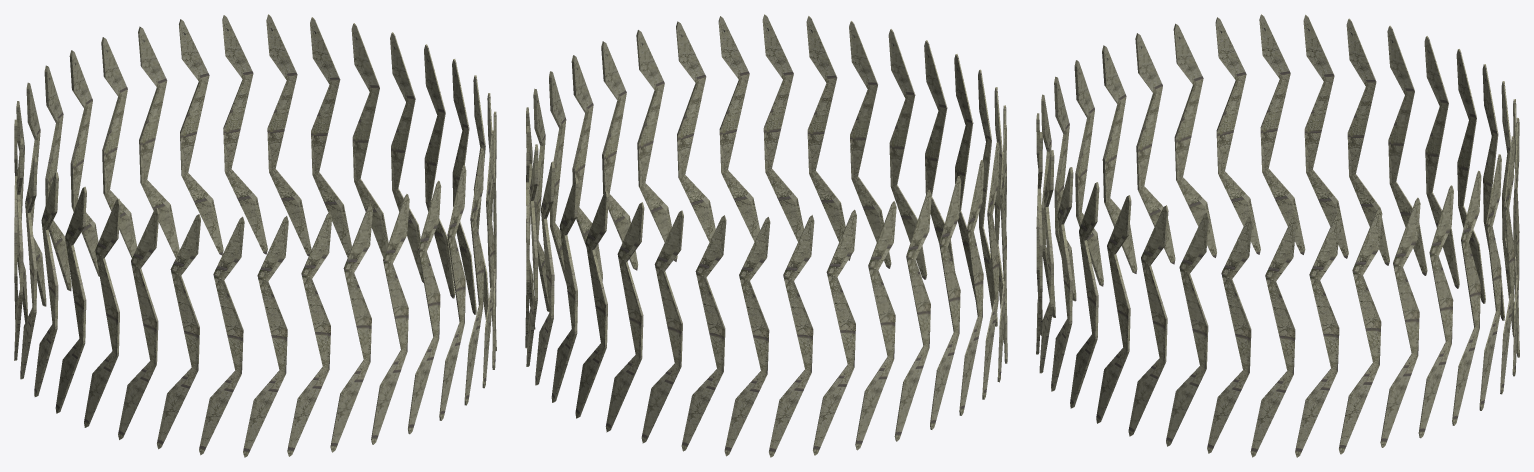
The model's file is SM_Corridor_05_rotating.fbx.
3 renders of one model, left to right at view 1: azimuth 30°, elevation 25°; view 2: azimuth 150°, elevation 25°; view 3: azimuth 270°, elevation 25°, orthographic.
Visible parts, largest first — view 1: SM_Corridor_05_rotating; view 2: SM_Corridor_05_rotating; view 3: SM_Corridor_05_rotating.
Boxes of the visible parts, <box> form: SM_Corridor_05_rotating: <box>14,14,496,457</box>; SM_Corridor_05_rotating: <box>525,14,1007,457</box>; SM_Corridor_05_rotating: <box>1036,14,1519,457</box>.
Size of the model in its own units: 8254 by 4543 by 8286.
